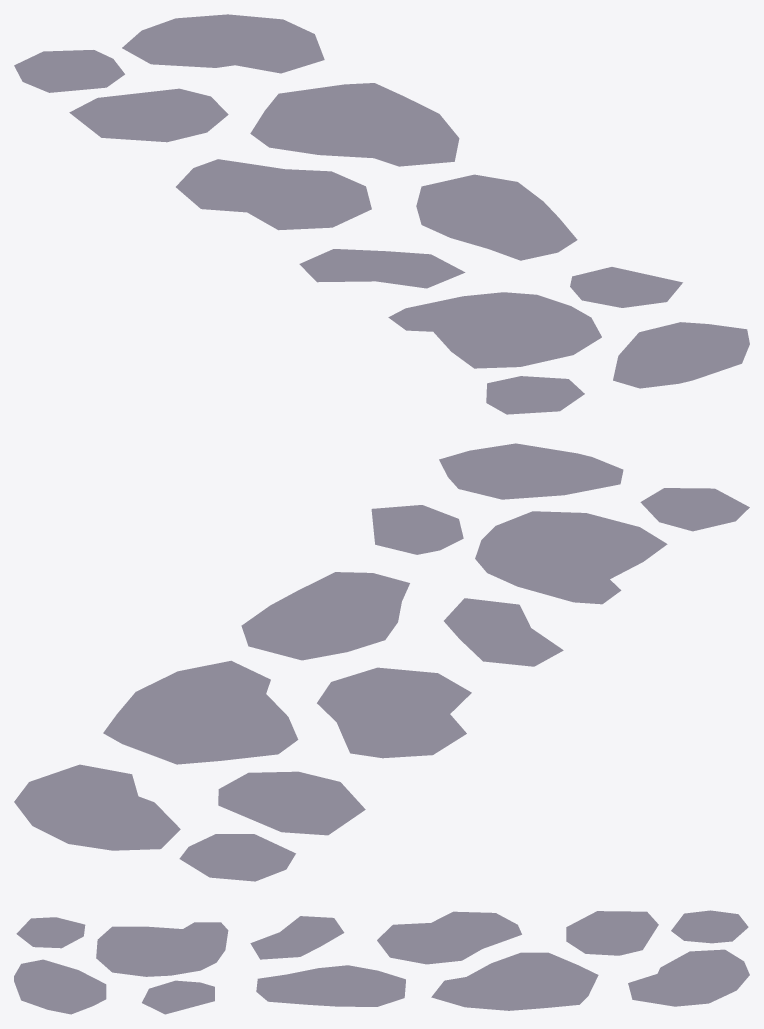
The model's file is Road.fbx.
3 views of the same model, one above another, from view 1: azimuth 30°, elevation 25°; view 2: azimuth 150°, elevation 25°; view 3: azimuth 270°, elevation 25° (orthographic). The views are drawn at different scales.
Visible parts, largest first — view 1: Plane.002; view 2: Plane.002; view 3: Plane.002.
Part boxes in pixels (left/top/right/bottom): Plane.002: left=14, top=14, right=749, bottom=414; Plane.002: left=14, top=443, right=749, bottom=881; Plane.002: left=14, top=910, right=749, bottom=1014.
Bounding box in the file's own units: 0.6229 × 1.86 × 2.22e-07.
